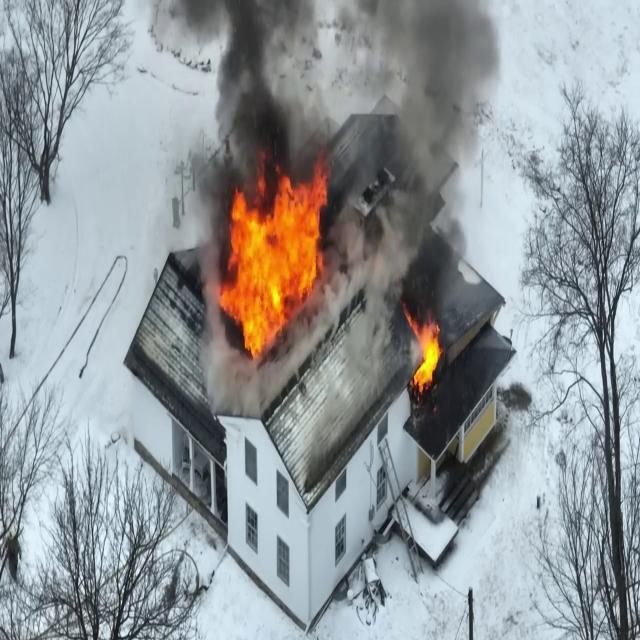Fire: (216, 157, 333, 366), (408, 308, 447, 400)
Smoke: (353, 0, 514, 315), (151, 0, 345, 165)
